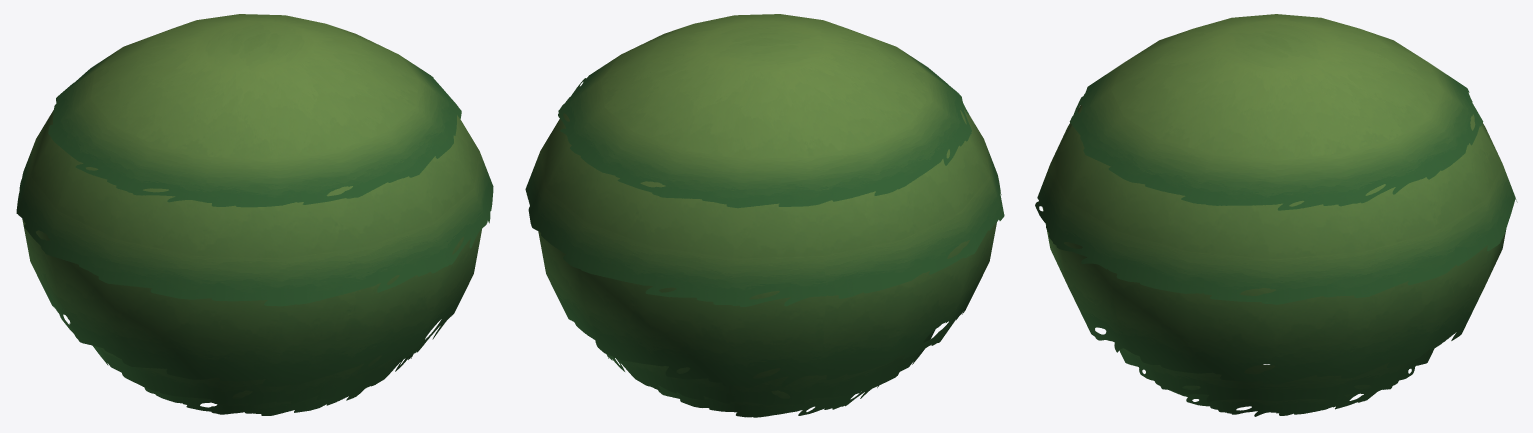
Rendered from bush.fbx.
The picture shows the model from 3 angles, left to right: view 1: azimuth 30°, elevation 25°; view 2: azimuth 150°, elevation 25°; view 3: azimuth 270°, elevation 25°; orthographic projection.
Parts seen in each view (by area): view 1: bush; view 2: bush; view 3: bush.
Part boxes in pixels (x1,y1,x2,y2): bush: (16, 14, 493, 415); bush: (525, 14, 1004, 417); bush: (1035, 14, 1517, 416).
Size of the model in its own units: 207 by 153 by 207.
